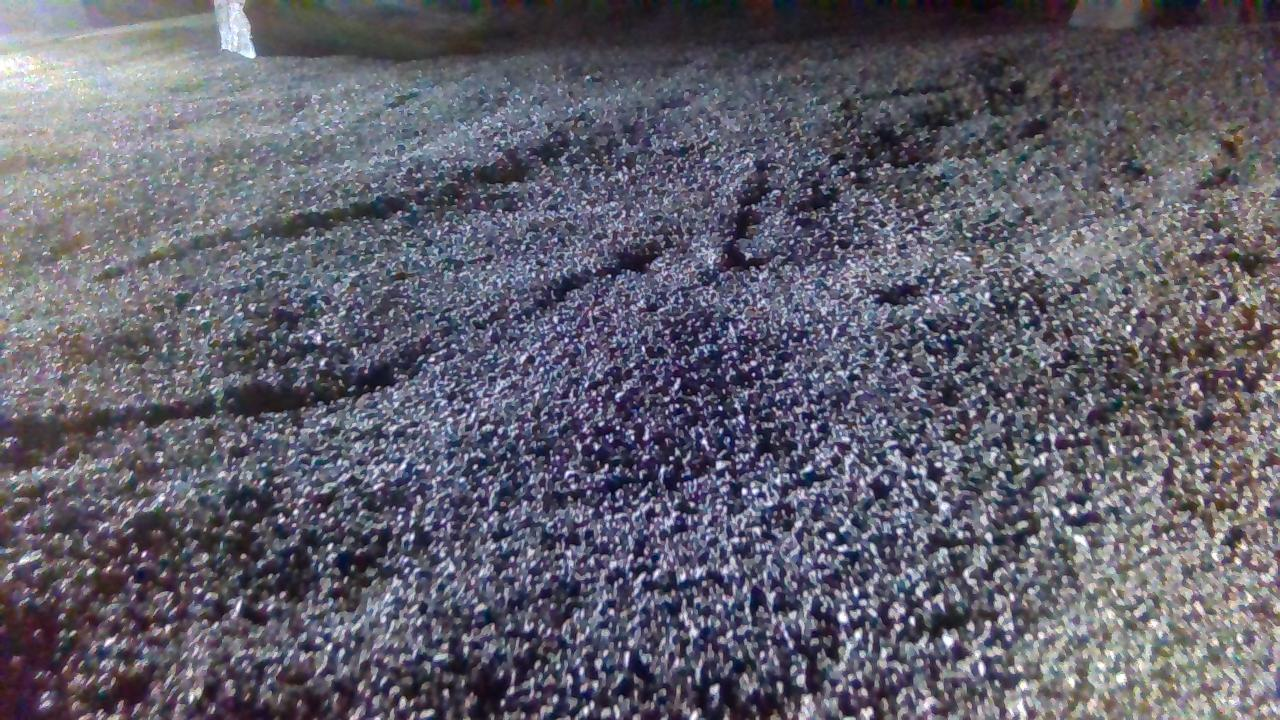rock: (214, 0, 255, 56)
